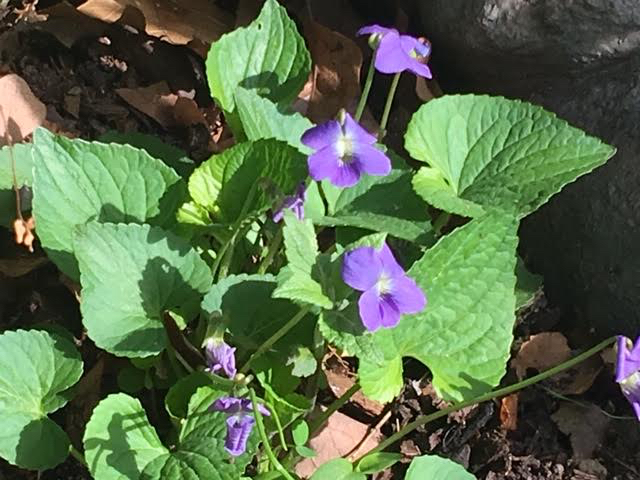violet: (336, 227, 429, 330), (302, 116, 394, 190), (351, 20, 434, 79)
